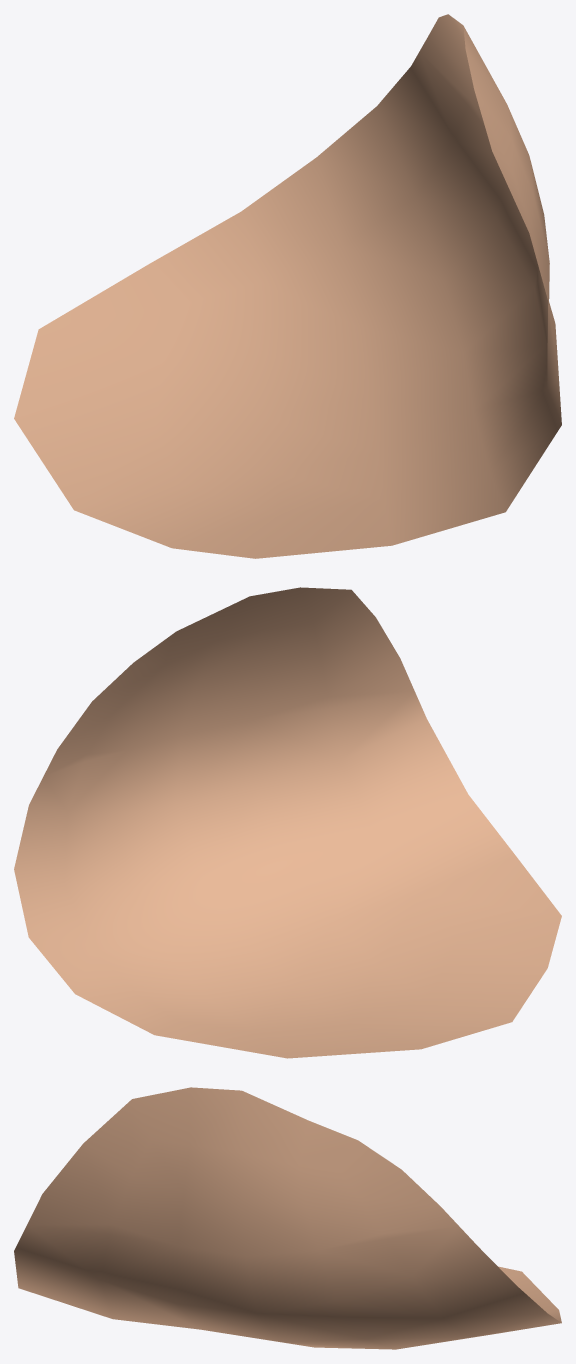
Rendered from hallucial-eminence-r.glb.
3 renders of one model, top to bottom at view 1: azimuth 30°, elevation 25°; view 2: azimuth 150°, elevation 25°; view 3: azimuth 270°, elevation 25°, orthographic. The views are drawn at different scales.
Parts seen in each view (by area): view 1: Hallucial eminence.r; view 2: Hallucial eminence.r; view 3: Hallucial eminence.r.
Part boxes in pixels (x1,y1,x2,y2): Hallucial eminence.r: (14, 14, 561, 558); Hallucial eminence.r: (14, 587, 561, 1058); Hallucial eminence.r: (14, 1087, 561, 1349).
Bounding box in the file's own units: 0.0369 × 0.0307 × 0.0517.
